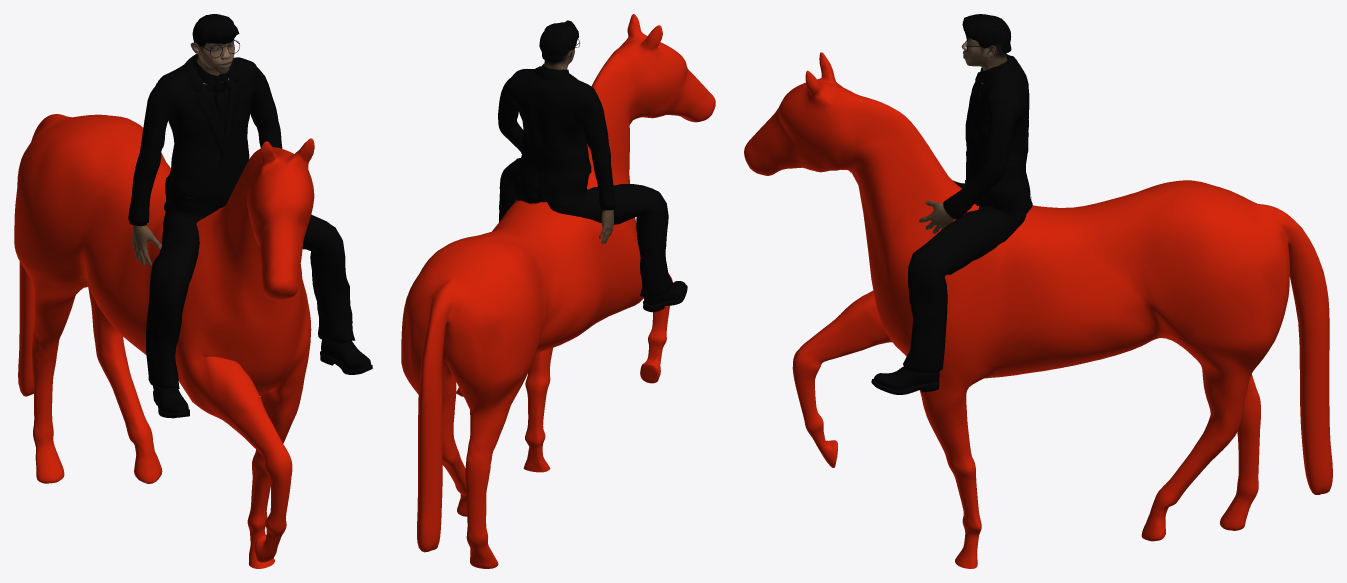
File: HorseManV2.gltf
The picture shows the model from 3 angles, left to right: view 1: azimuth 30°, elevation 25°; view 2: azimuth 150°, elevation 25°; view 3: azimuth 270°, elevation 25°; orthographic projection. The views are drawn at different scales.
Parts seen in each view (by area): view 1: Mesh16_Model, Makehuman2_Male_elegantsuit01_001, Makehuman2_Shoes03, FBHead, default, Makehuman2_Body; view 2: Mesh16_Model, Makehuman2_Male_elegantsuit01_001, FBHead, Makehuman2_Shoes03, default; view 3: Mesh16_Model, Makehuman2_Male_elegantsuit01_001, FBHead, Makehuman2_Shoes03, default.
Part boxes in pixels (bbox=[...]): Mesh16_Model: bbox=[14, 114, 314, 568]; Makehuman2_Male_elegantsuit01_001: bbox=[128, 54, 355, 388]; Makehuman2_Shoes03: bbox=[152, 339, 372, 418]; FBHead: bbox=[190, 14, 234, 84]; default: bbox=[195, 15, 239, 46]; Makehuman2_Body: bbox=[132, 225, 162, 266]; Mesh16_Model: bbox=[401, 14, 715, 568]; Makehuman2_Male_elegantsuit01_001: bbox=[498, 64, 672, 297]; FBHead: bbox=[539, 26, 574, 69]; Makehuman2_Shoes03: bbox=[643, 281, 687, 312]; default: bbox=[542, 20, 578, 62]; Mesh16_Model: bbox=[744, 52, 1332, 568]; Makehuman2_Male_elegantsuit01_001: bbox=[903, 54, 1032, 372]; FBHead: bbox=[961, 15, 1011, 83]; Makehuman2_Shoes03: bbox=[871, 366, 939, 394]; default: bbox=[962, 14, 1011, 53].
Bounding box in the file's own units: 0.3319 × 0.844 × 0.8481.
Materials: 10 (1 with a texture image).
